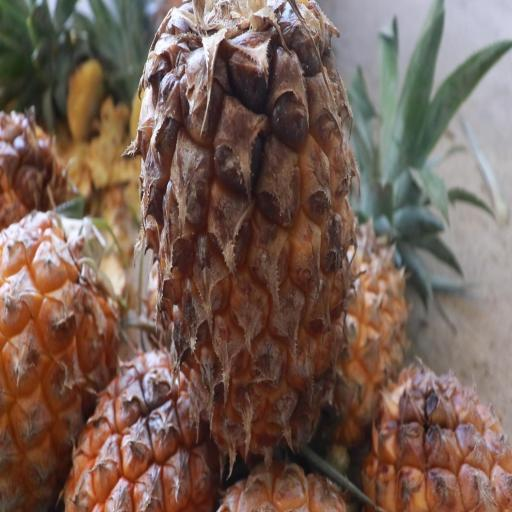Pineapple - v8 v1: (135, 0, 362, 473), (0, 204, 124, 512), (63, 336, 223, 512), (356, 359, 512, 512)
